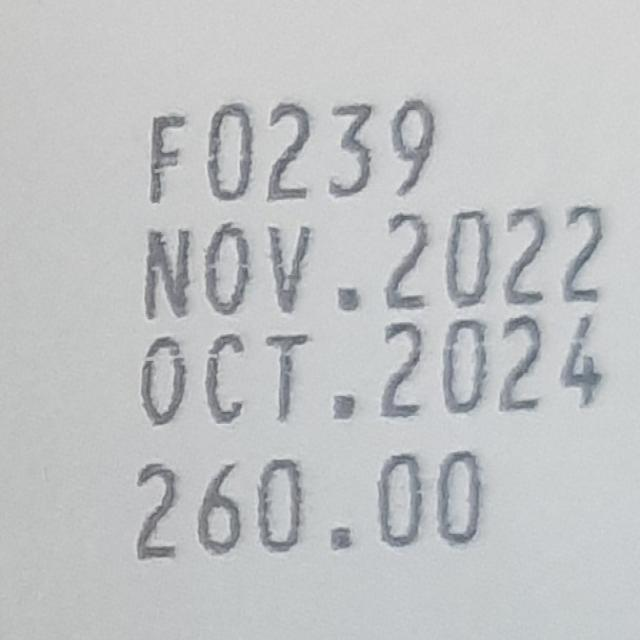sentence: (144, 201, 605, 331), (140, 306, 602, 434), (135, 452, 479, 559), (151, 99, 434, 202)
